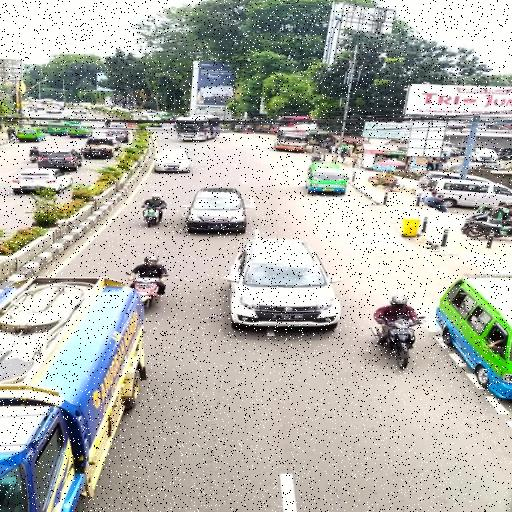Helmet: (143, 251, 162, 271), (391, 292, 408, 310), (149, 192, 167, 207)
Motor: (370, 315, 416, 372), (118, 274, 168, 314), (143, 200, 164, 227)
